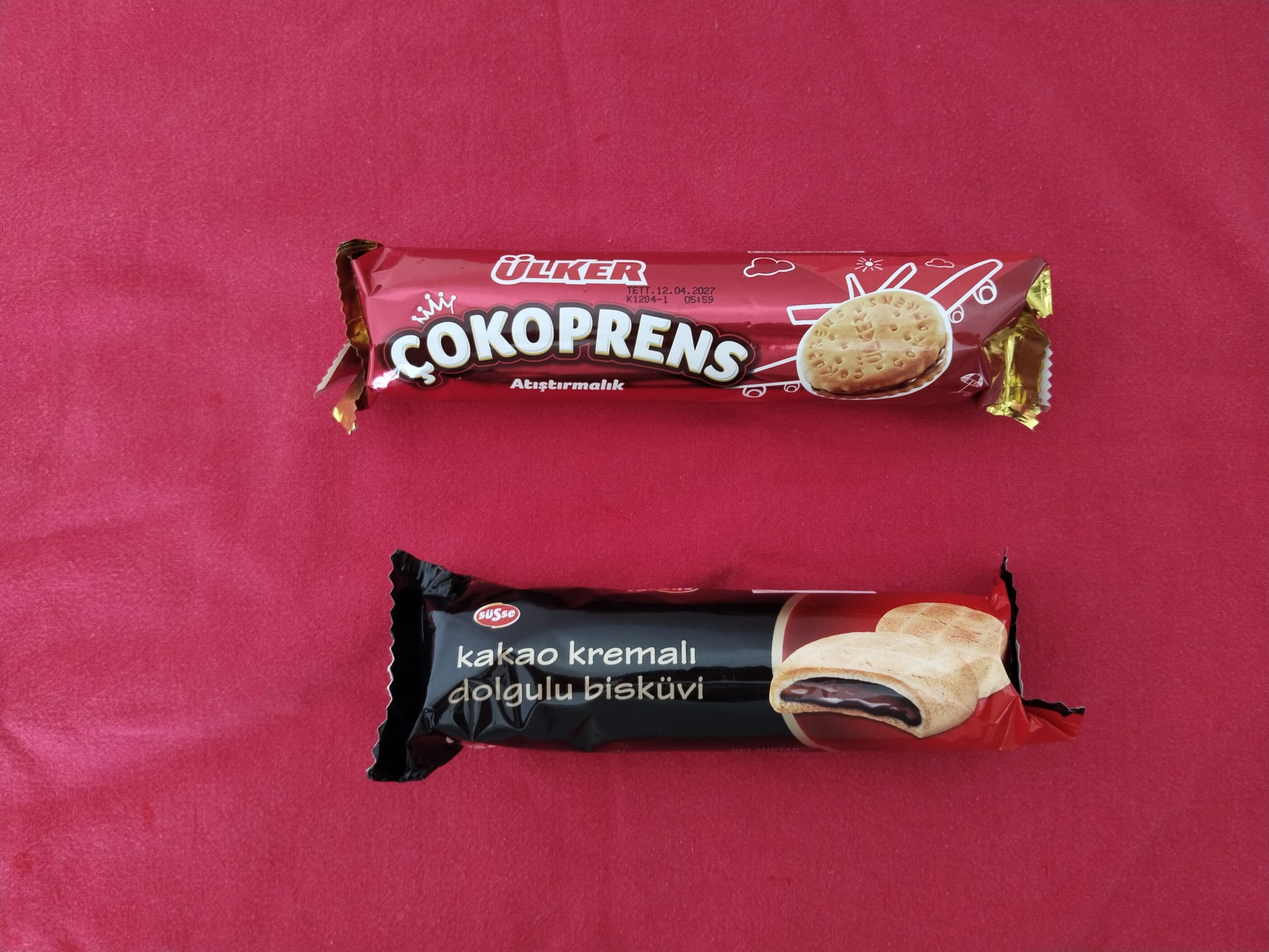pensan_mavi_tukenmez_kalem: (372, 551, 1082, 777)
susse_biskuvi: (318, 240, 1051, 430)
